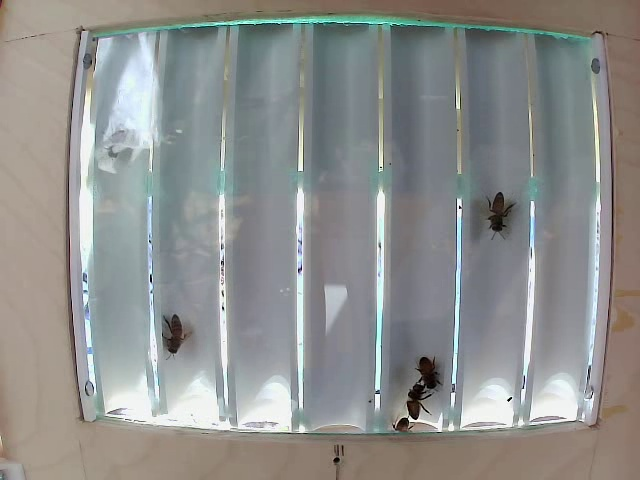bee: (485, 184, 524, 250), (156, 314, 200, 361), (411, 344, 443, 387), (404, 385, 431, 425)
